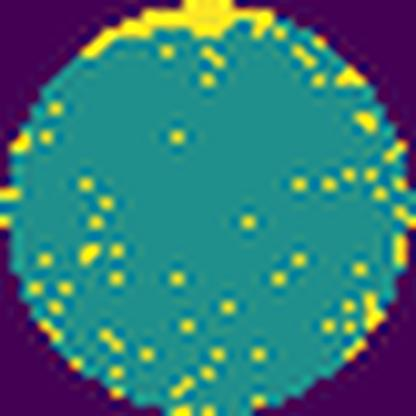Edge-Loc: (80, 0, 272, 61)
